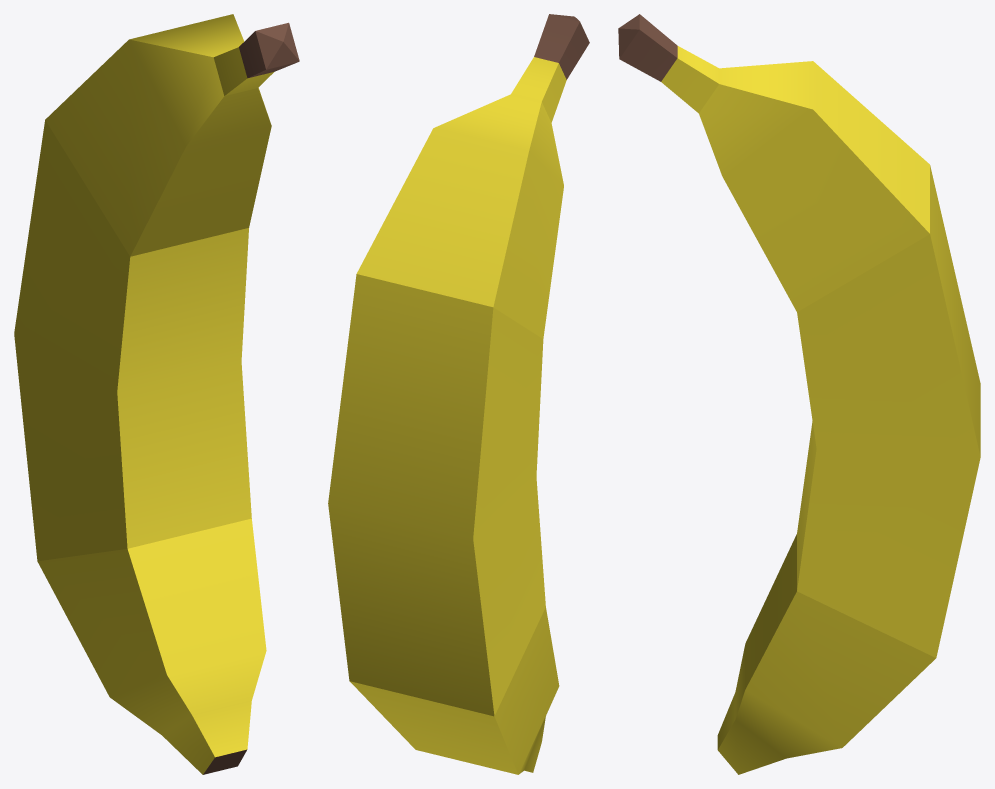
Rendered from banana.gltf.
The picture shows the model from 3 angles, left to right: view 1: azimuth 30°, elevation 25°; view 2: azimuth 150°, elevation 25°; view 3: azimuth 270°, elevation 25°; orthographic projection. The views are drawn at different scales.
Visible parts, largest first — view 1: node-0; view 2: node-0; view 3: node-0.
Part boxes in pixels (left/top/right/bottom): node-0: left=14, top=14, right=299, bottom=774; node-0: left=328, top=14, right=589, bottom=774; node-0: left=618, top=14, right=980, bottom=774.
Bounding box in the file's own units: 20.76 × 97.95 × 43.17.
